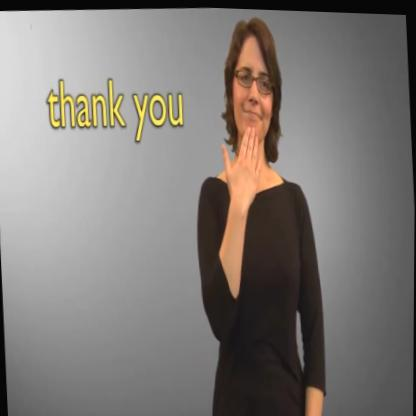ThankYou: (178, 5, 305, 347)
